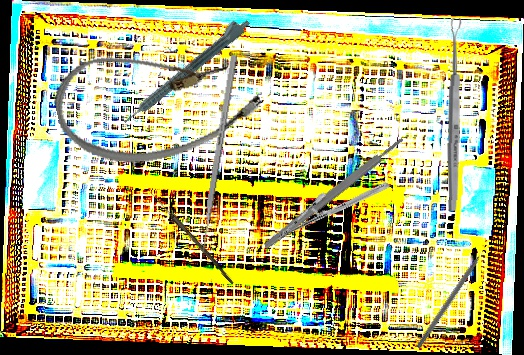Cannula: (46, 23, 269, 180)
Handpiece: (116, 12, 253, 127)
Hook Surgical: (415, 243, 491, 350)
Needle Holder: (274, 147, 392, 275)
Pusher: (197, 54, 238, 265)
Scalpel Handle: (262, 135, 406, 251)
Surgical Spoon: (146, 189, 237, 285), (446, 17, 463, 212)
